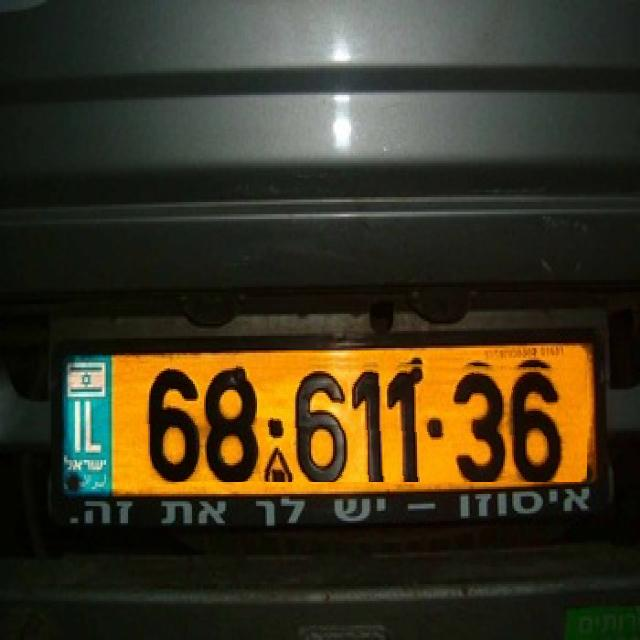licence: (119, 355, 587, 482)
